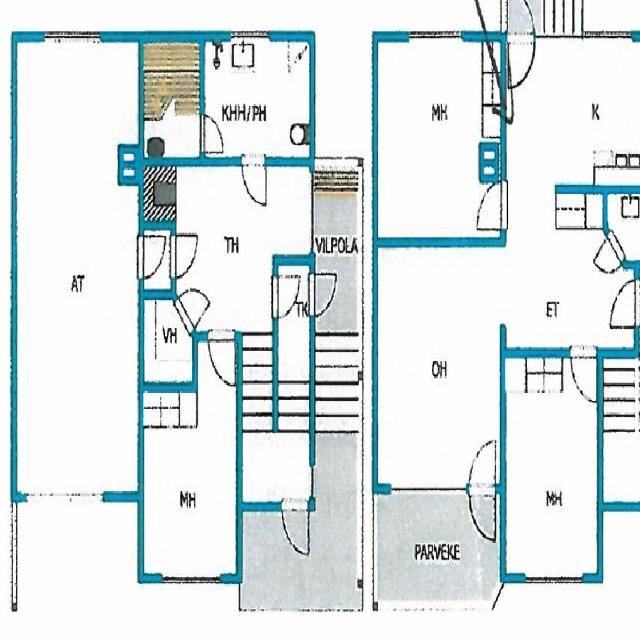door: (175, 270, 210, 334), (592, 230, 624, 289), (608, 279, 640, 327), (469, 436, 495, 494), (208, 331, 234, 388), (508, 32, 534, 89), (282, 502, 308, 558), (469, 484, 495, 540), (570, 348, 596, 403), (272, 275, 302, 319), (309, 274, 338, 316), (138, 236, 167, 278), (242, 158, 265, 210), (171, 236, 199, 277), (508, 0, 534, 42), (200, 116, 226, 152)
